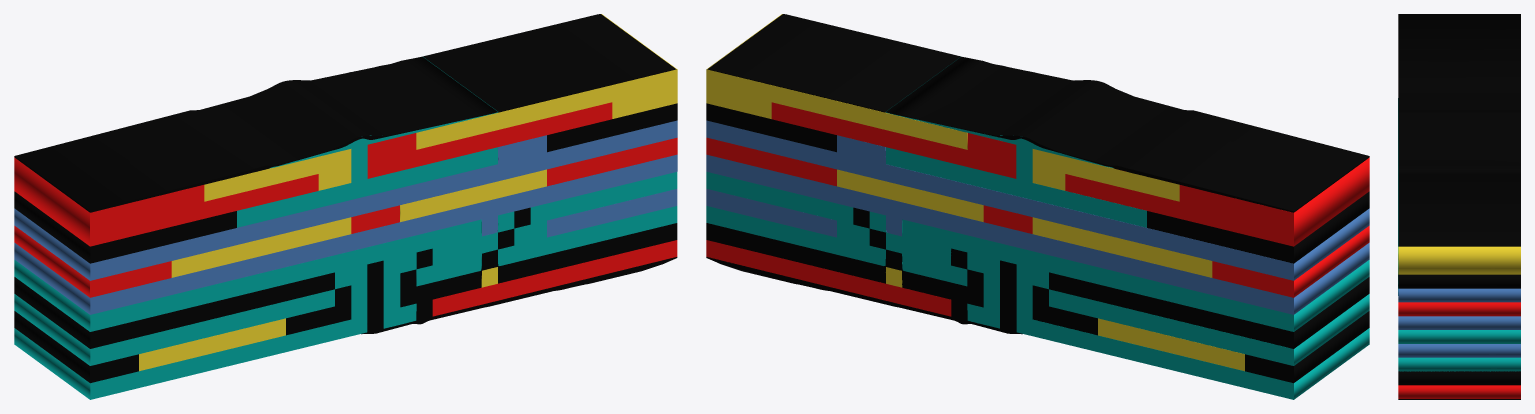
The model's file is Toadz_2579.glb.
3 renders of one model, left to right at view 1: azimuth 30°, elevation 25°; view 2: azimuth 150°, elevation 25°; view 3: azimuth 270°, elevation 25°, orthographic. The views are drawn at different scales.
Parts seen in each view (by area): view 1: Curve; view 2: Curve; view 3: Curve.
Part boxes in pixels (x1=…): Curve: x1=14, y1=14, x2=677, y2=399; Curve: x1=706, y1=14, x2=1369, y2=399; Curve: x1=1398, y1=14, x2=1520, y2=399.
Size of the model in its own units: 4.48 by 1.48 by 1.
